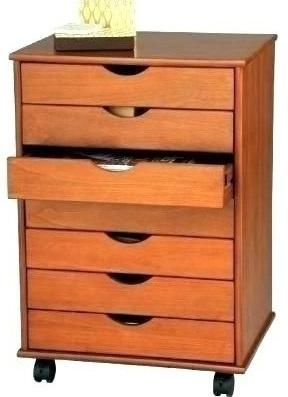cabinet_door: (24, 153, 229, 201), (28, 312, 233, 357), (22, 62, 233, 104), (22, 102, 232, 144), (27, 268, 233, 310), (24, 274, 233, 314), (27, 231, 233, 269), (27, 202, 230, 231)
handle: (104, 227, 153, 250), (110, 312, 154, 332), (106, 271, 157, 288), (104, 61, 149, 80), (105, 105, 152, 122), (94, 160, 135, 178)
